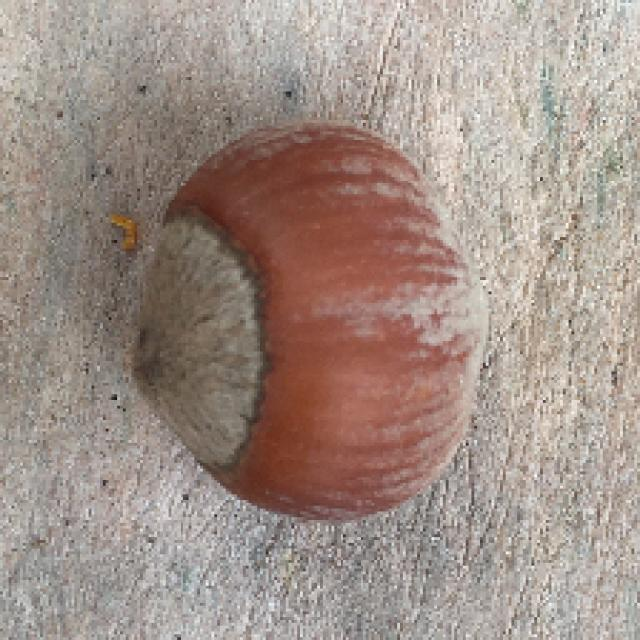qualityHazelnut: (134, 124, 482, 526)
